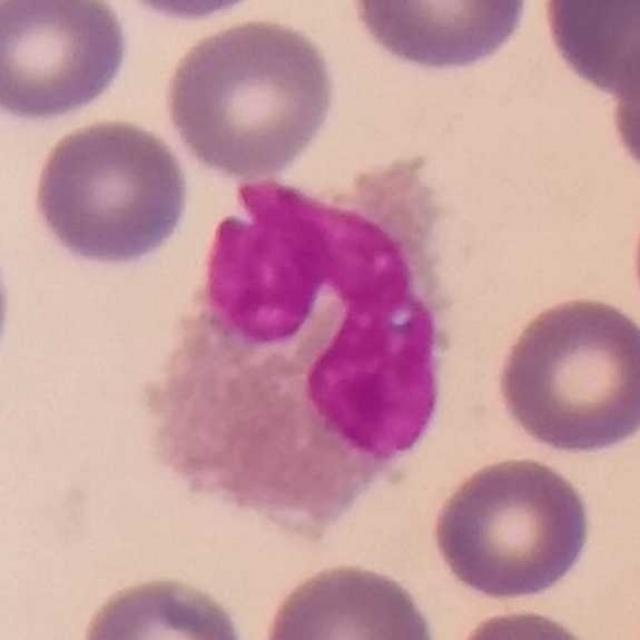eosino: (144, 148, 456, 548)
